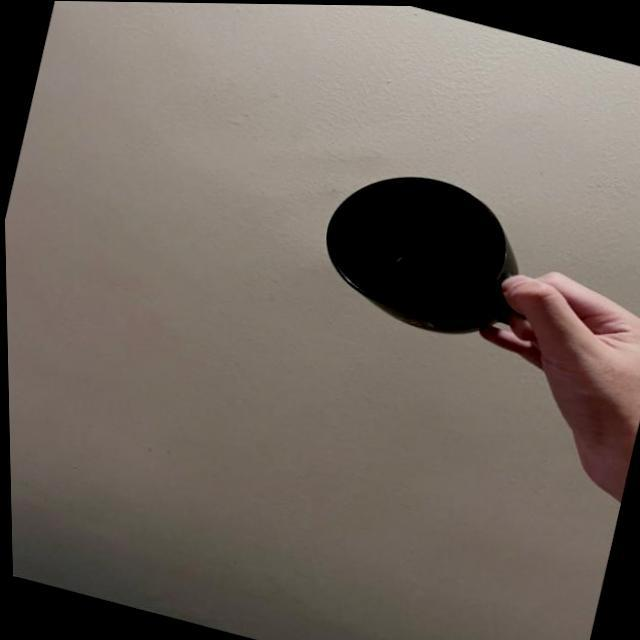cup: (307, 157, 340, 306)
